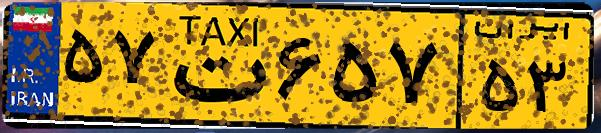3: (525, 38, 570, 115)
5: (330, 28, 385, 110), (57, 26, 110, 100), (475, 38, 525, 113)
6: (270, 28, 330, 110)
7: (385, 28, 445, 110), (110, 28, 158, 98)
ت: (158, 12, 270, 120)
